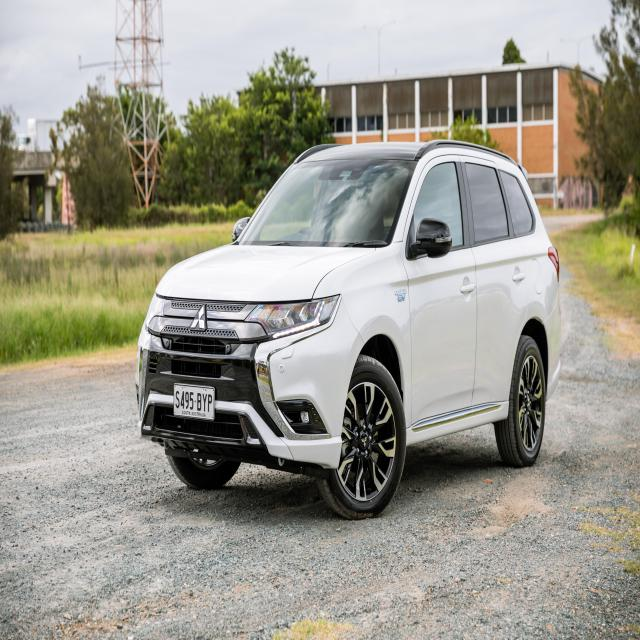light_vehicle: (136, 138, 562, 520)
